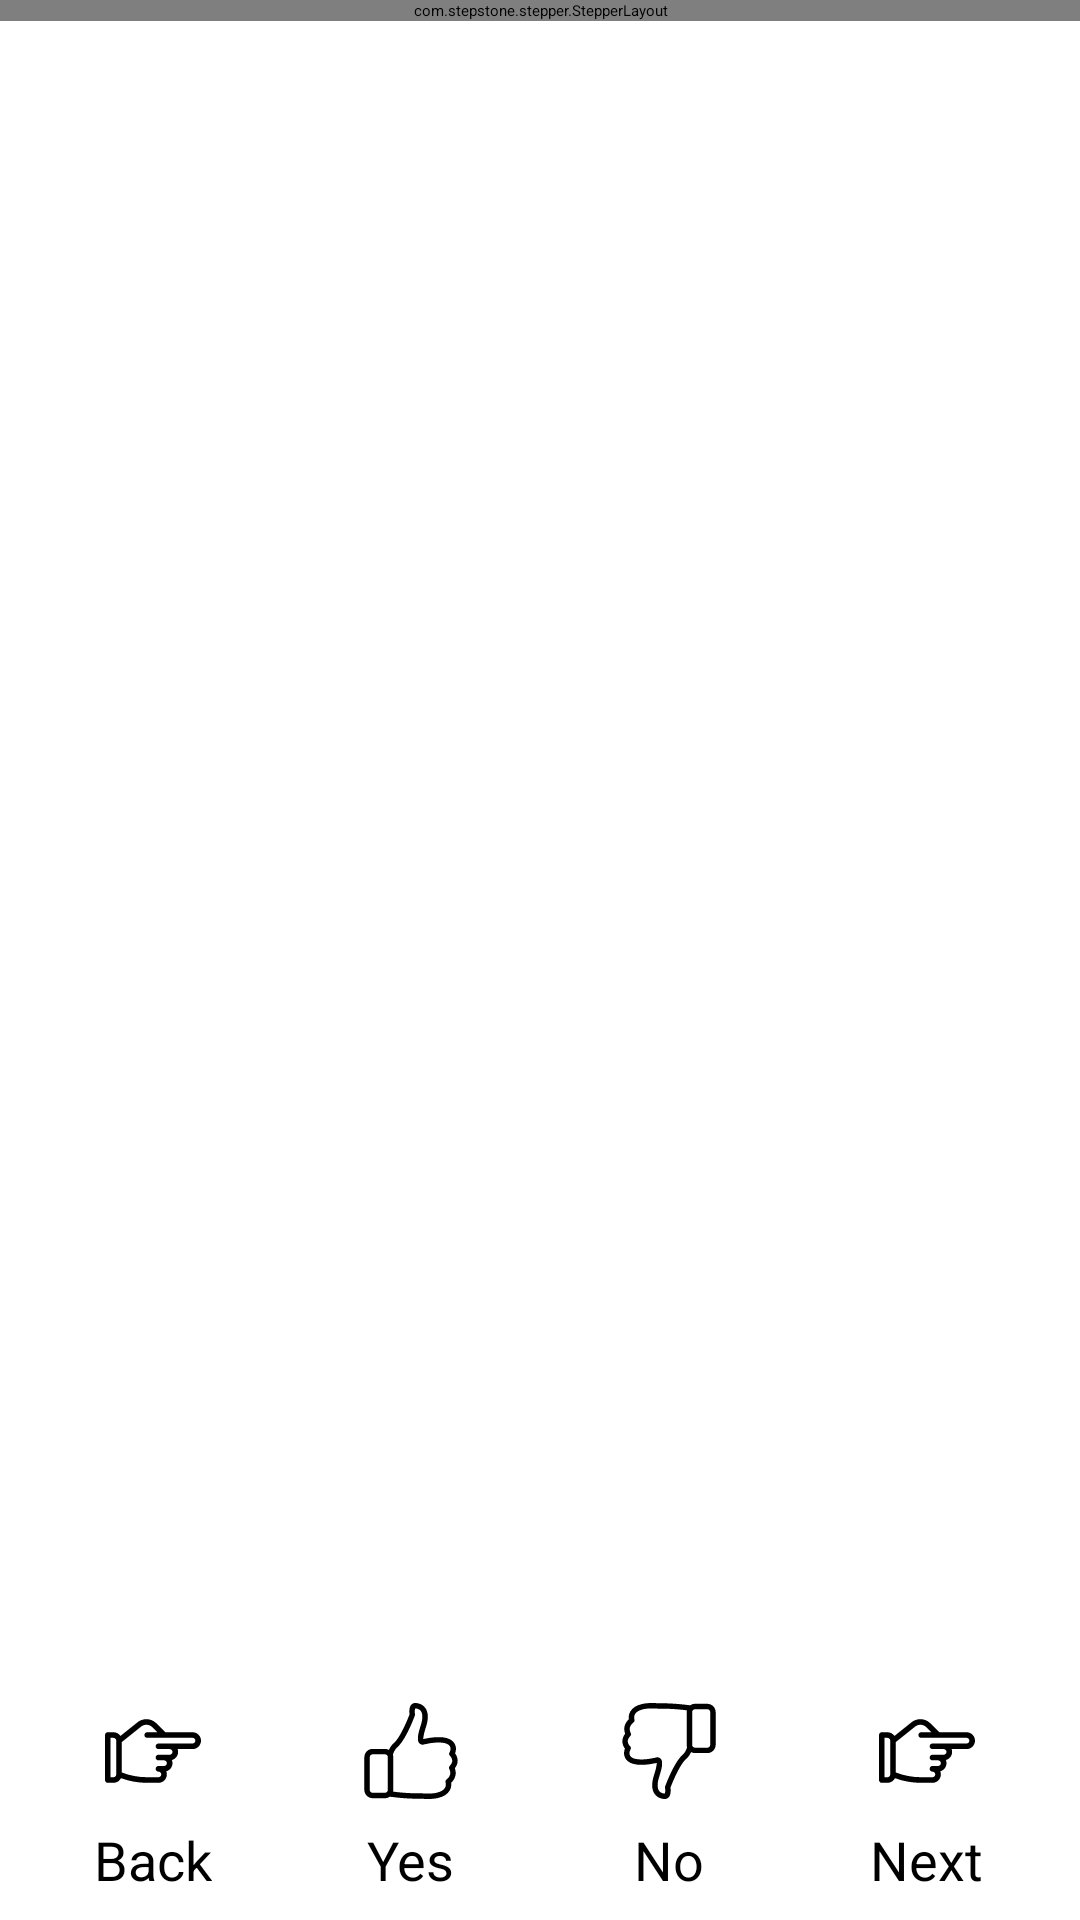

Point at icon controls on the screen. Image size 1080px x 1920px, points as (x=x, y=y).
dislike: (x=669, y=1751)
like: (x=411, y=1751)
point: (x=153, y=1751), (x=927, y=1751)
